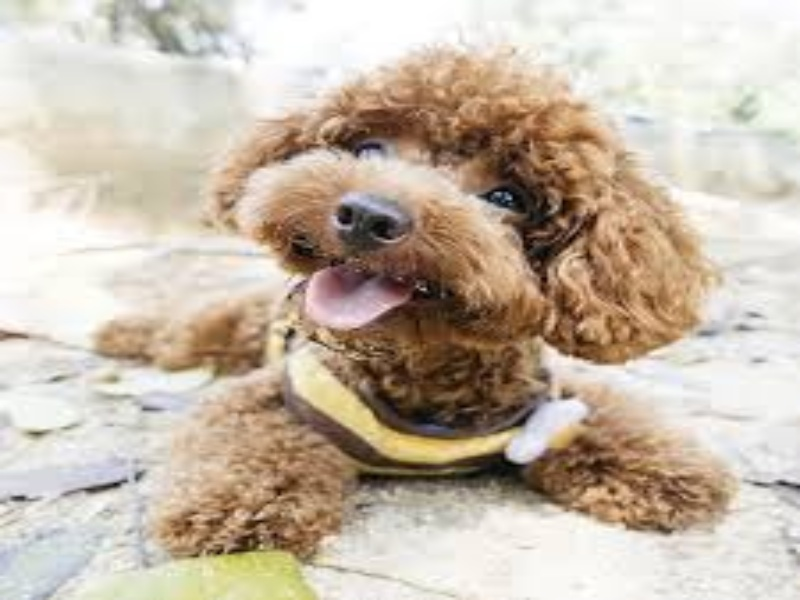dog: (109, 22, 738, 557)
